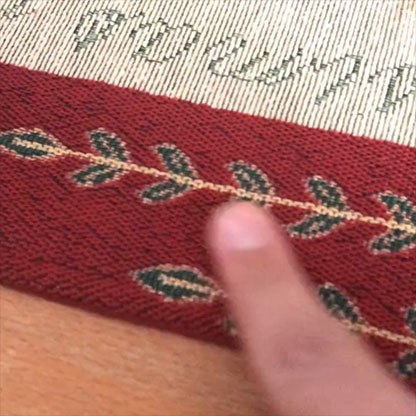fingertip: (191, 190, 299, 270)
